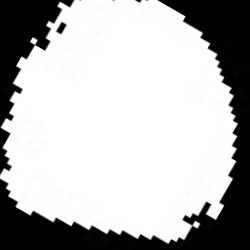spot: (0, 2, 240, 243)
